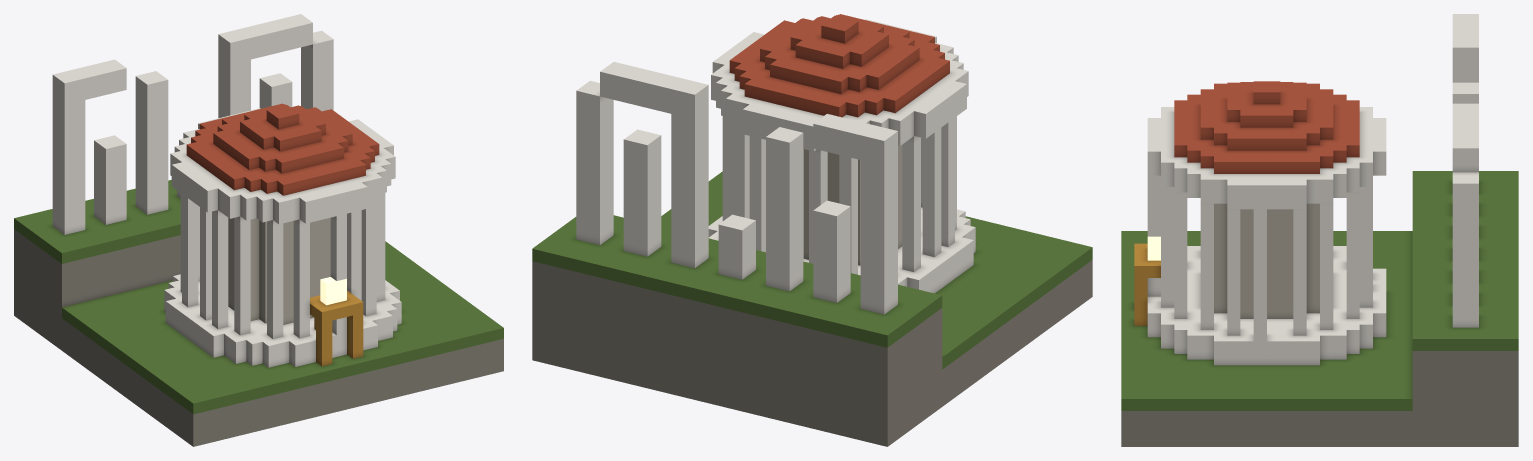
Rendered from w_oracle.glb.
3 renders of one model, left to right at view 1: azimuth 30°, elevation 25°; view 2: azimuth 150°, elevation 25°; view 3: azimuth 270°, elevation 25°, orthographic. The views are drawn at different scales.
Visible parts, largest first — view 1: w_oracle_body; view 2: w_oracle_body; view 3: w_oracle_body.
Part boxes in pixels (<box>): w_oracle_body: <box>14,14,503,446</box>; w_oracle_body: <box>532,14,1092,446</box>; w_oracle_body: <box>1121,14,1518,446</box>.
Size of the model in its own units: 1.88 by 1.44 by 1.88.
Materials: 1 (1 with a texture image).
